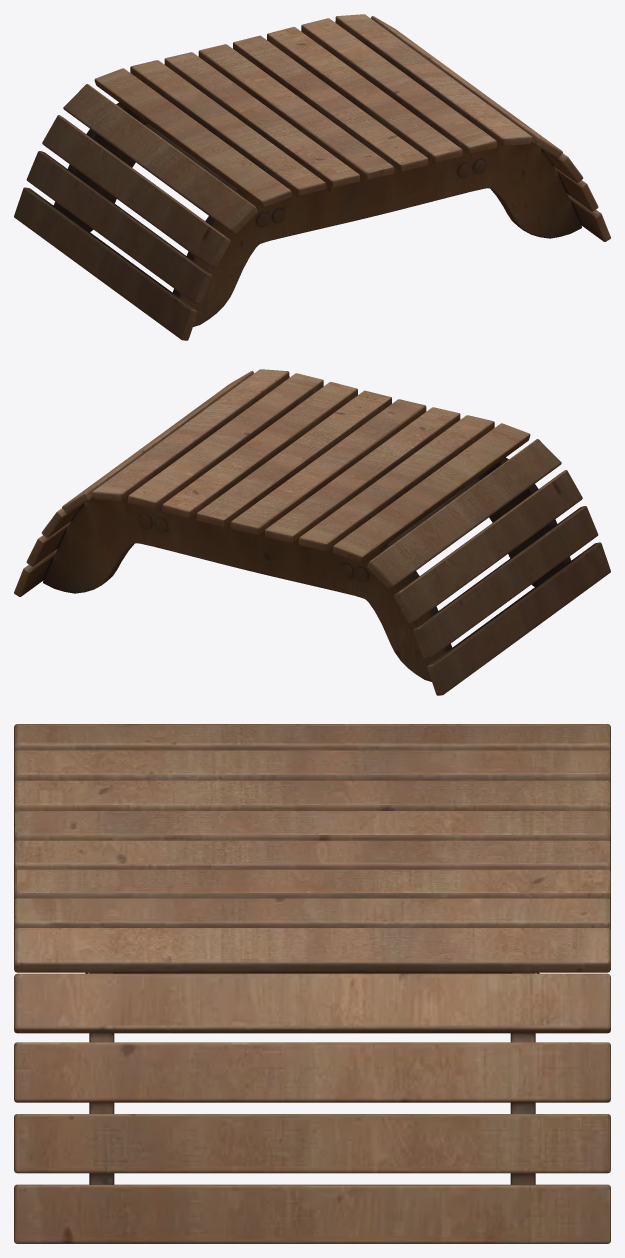
Rendered from Baking3-transformed.glb.
The picture shows the model from 3 angles, top to bottom: view 1: azimuth 30°, elevation 25°; view 2: azimuth 150°, elevation 25°; view 3: azimuth 270°, elevation 25°; orthographic projection. The views are drawn at different scales.
Parts seen in each view (by area): view 1: Plane.007; view 2: Plane.007; view 3: Plane.007.
Part boxes in pixels (x1,y1,x2,y2): Plane.007: (14,14,610,340); Plane.007: (14,369,610,695); Plane.007: (14,724,610,1243).
Size of what is drawn, in the model's own units: 2.18 by 0.6494 by 1.48.
1 material, 1 textured.
